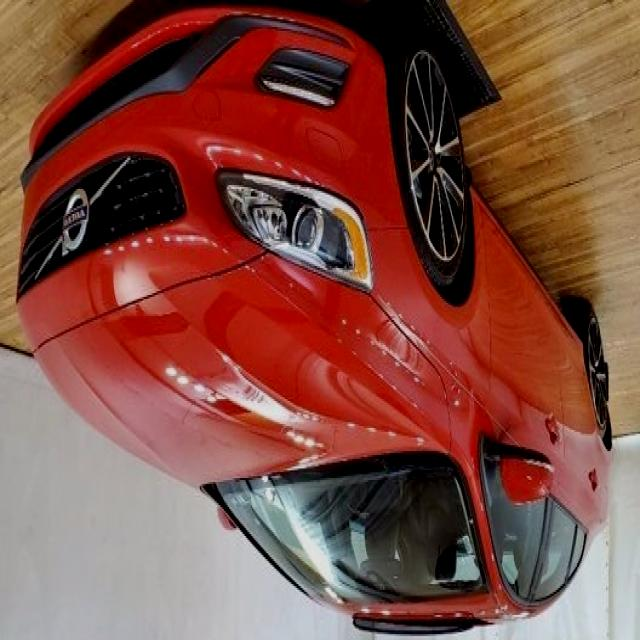red: (1, 0, 612, 629)
